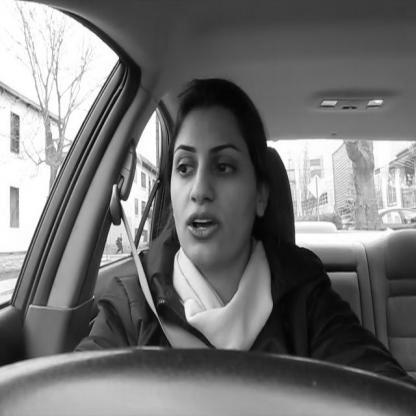seatbelt: (107, 75, 280, 351)
